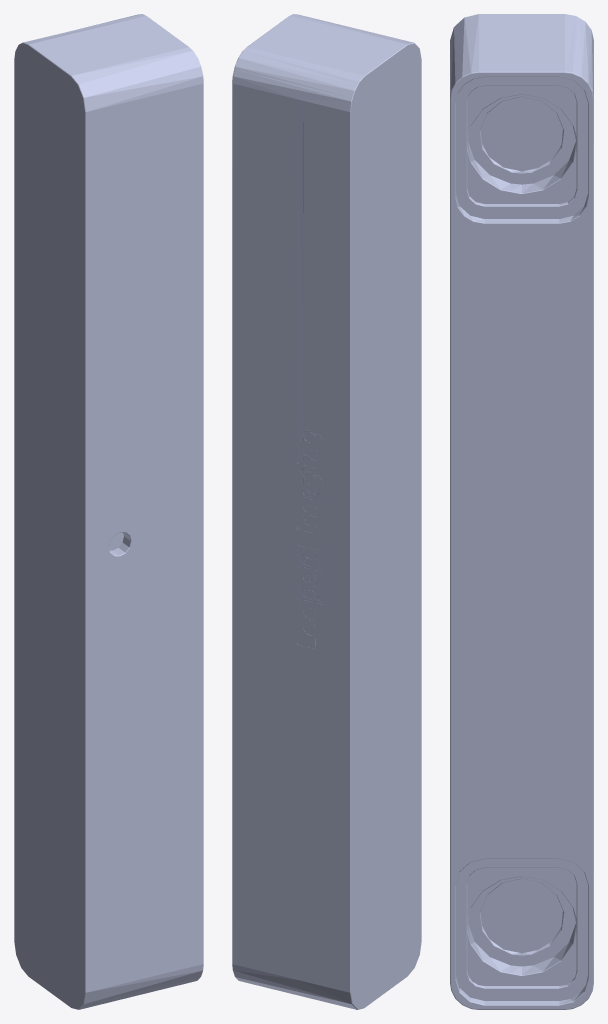
Rendered from F_Camera_Link_mesh.obj.
The picture shows the model from 3 angles, left to right: view 1: azimuth 30°, elevation 25°; view 2: azimuth 150°, elevation 25°; view 3: azimuth 270°, elevation 25°; orthographic projection.
Size of the model in its own units: 0.024 by 0.18 by 0.025.
